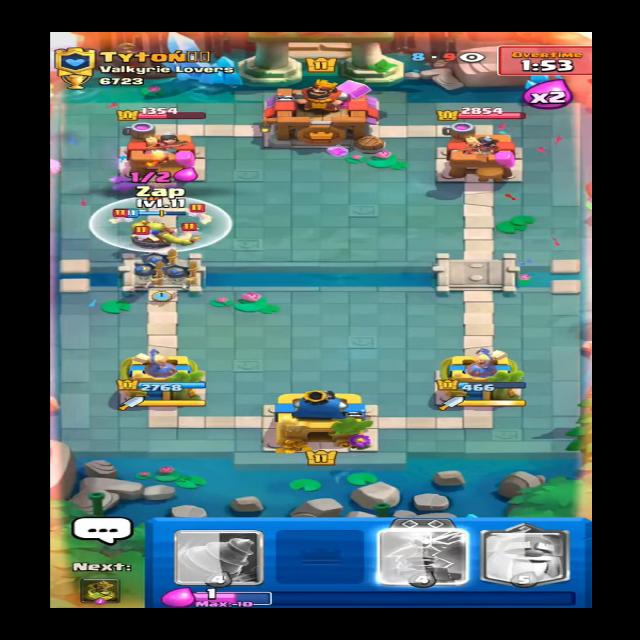bats: (146, 188, 176, 212), (182, 198, 212, 220), (173, 223, 205, 242), (105, 207, 130, 221)
